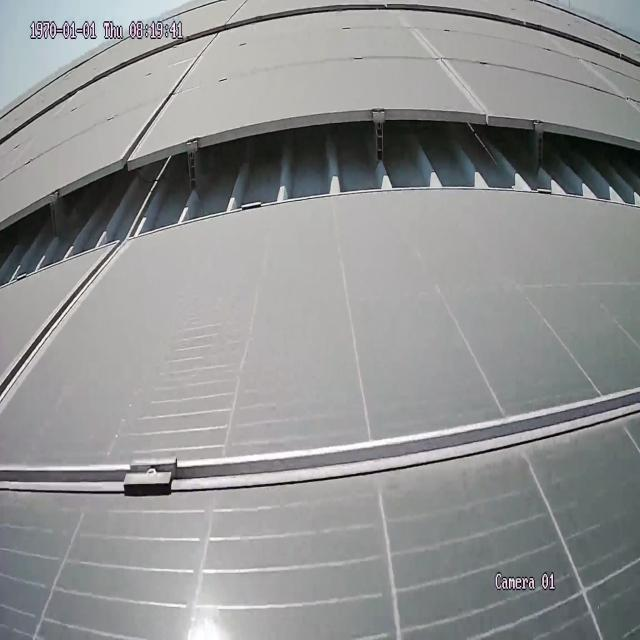interior panel: (1, 389, 639, 504), (126, 41, 212, 152), (401, 24, 492, 109)
outher panel: (3, 116, 639, 287)
